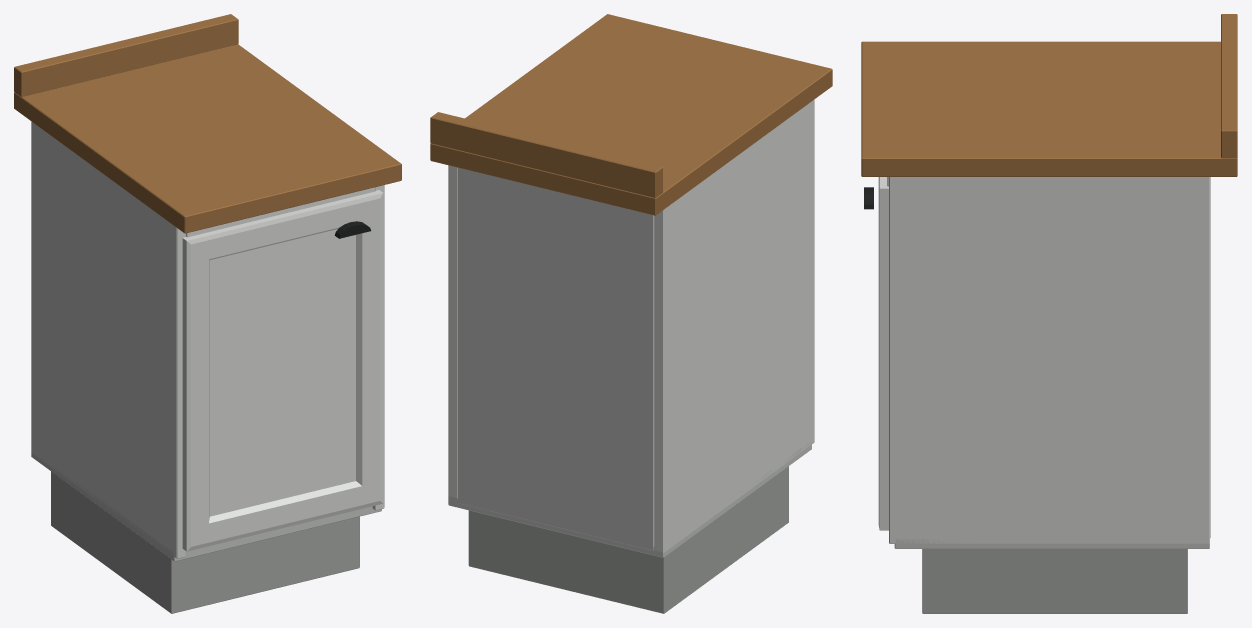
The model's file is Mesada_pequena.fbx.
3 renders of one model, left to right at view 1: azimuth 30°, elevation 25°; view 2: azimuth 150°, elevation 25°; view 3: azimuth 270°, elevation 25°, orthographic. The views are drawn at different scales.
Visible parts, largest first — view 1: Puerta blanca - panel rehundido, Lateral izquierdo, Tapa de madera - 50 x 68 cm, Zocalo retranqueado, Alzada trasera de madera, Piso del mueble, Travesano superior delantero, Lateral derecho; view 2: Fondo del mueble, Lateral izquierdo, Tapa de madera - 50 x 68 cm, Zocalo retranqueado, Alzada trasera de madera, Lateral derecho, Piso del mueble; view 3: Lateral derecho, Tapa de madera - 50 x 68 cm, Zocalo retranqueado, Puerta blanca - panel rehundido, Alzada trasera de madera, Piso del mueble.
Part boxes in pixels (bbox=[...]): Puerta blanca - panel rehundido: bbox=[182, 190, 383, 551]; Lateral izquierdo: bbox=[31, 121, 185, 558]; Tapa de madera - 50 x 68 cm: bbox=[14, 44, 401, 233]; Zocalo retranqueado: bbox=[51, 471, 359, 613]; Alzada trasera de madera: bbox=[14, 14, 238, 96]; Piso del mueble: bbox=[31, 452, 381, 561]; Travesano superior delantero: bbox=[186, 187, 375, 237]; Lateral derecho: bbox=[372, 185, 384, 510]; Fondo del mueble: bbox=[458, 167, 654, 550]; Lateral izquierdo: bbox=[654, 99, 814, 552]; Tapa de madera - 50 x 68 cm: bbox=[430, 14, 832, 215]; Zocalo retranqueado: bbox=[468, 466, 788, 613]; Alzada trasera de madera: bbox=[430, 112, 662, 198]; Lateral derecho: bbox=[448, 165, 457, 502]; Piso del mueble: bbox=[448, 441, 811, 557]; Lateral derecho: bbox=[889, 177, 1209, 543]; Tapa de madera - 50 x 68 cm: bbox=[861, 41, 1237, 176]; Zocalo retranqueado: bbox=[922, 549, 1187, 613]; Puerta blanca - panel rehundido: bbox=[878, 177, 888, 530]; Alzada trasera de madera: bbox=[1221, 14, 1237, 158]; Piso del mueble: bbox=[894, 539, 1209, 548].
Bounding box in the file's own units: 50 × 98 × 68.
